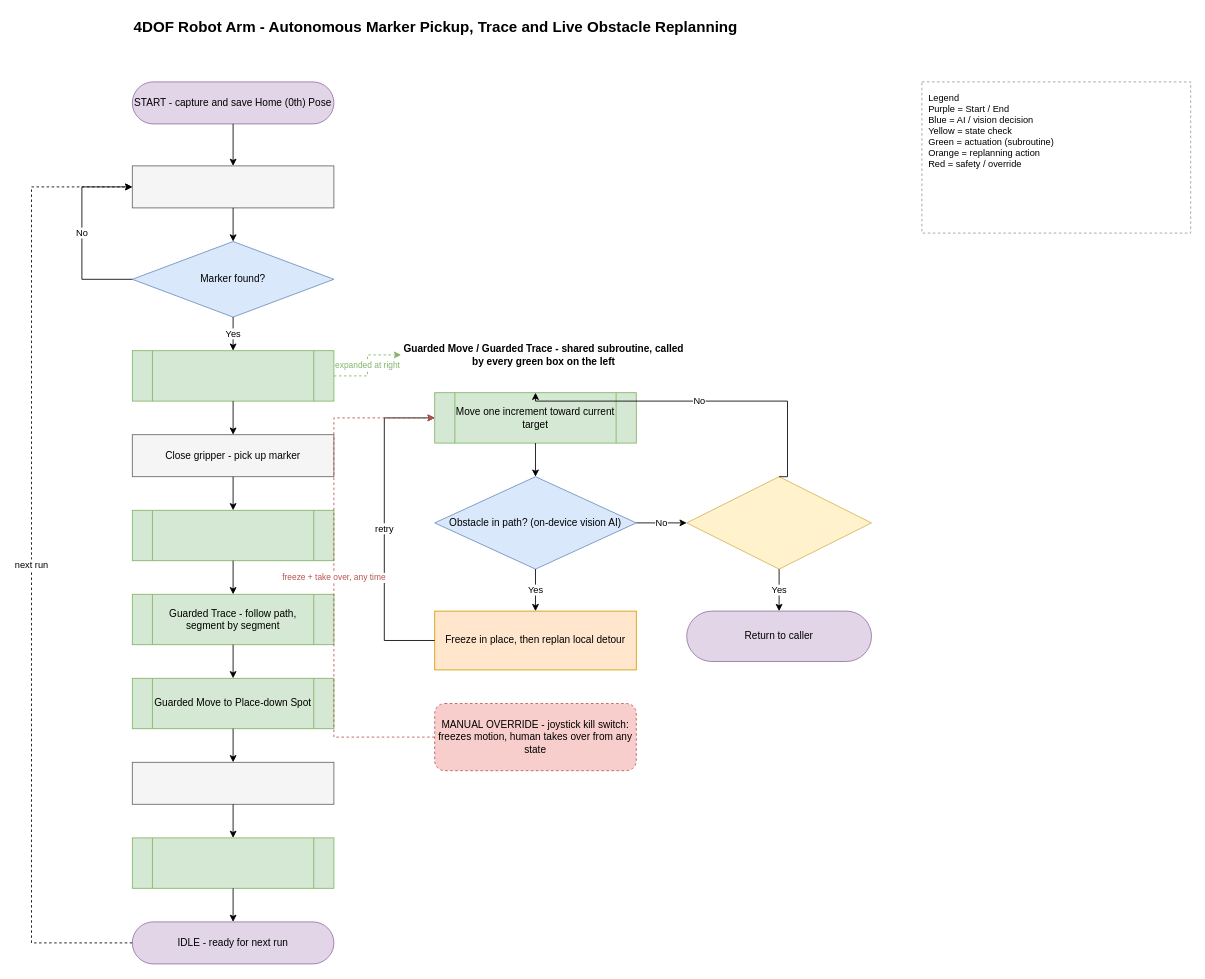
This 1205x979 diagram has some shape labels left out. Each missing label, with the centre of its shape:
Guarded Move to Home: the point at 232,862
Guarded Move to Marker: the point at 232,375
Guarded Move to Trace Start: the point at 232,535
Open gripper - set marker down: the point at 232,782
Search for marker (camera + CV): the point at 232,186
Target / segment reached?: the point at 779,522
